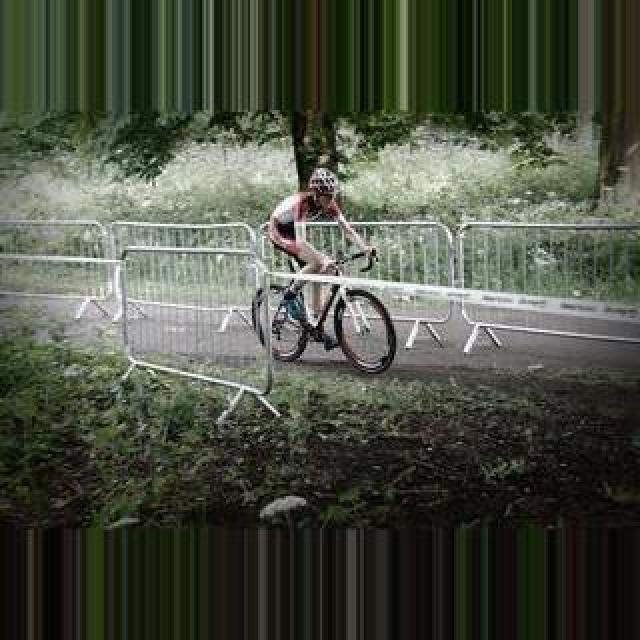MC-Bike: (262, 166, 378, 360)
Person: (252, 246, 396, 372)
